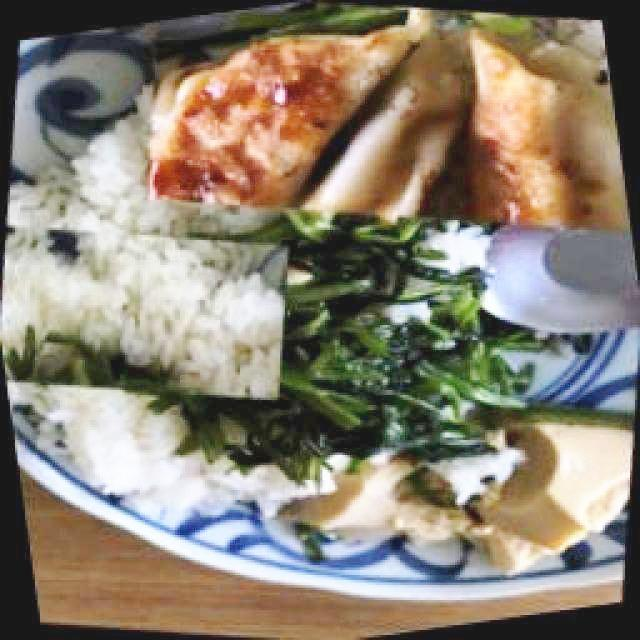fried_dumplings: (155, 26, 439, 213)
rice: (9, 223, 268, 384), (64, 392, 232, 508)
water_spinach: (276, 217, 506, 427)
